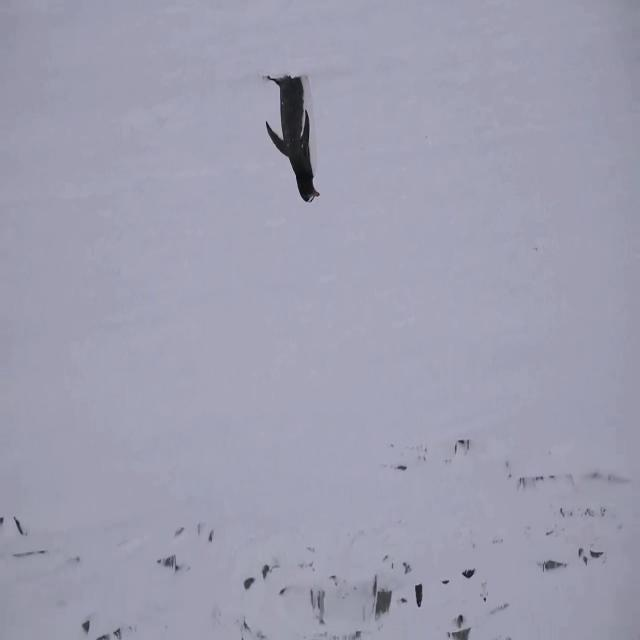penguin: (263, 73, 320, 205)
